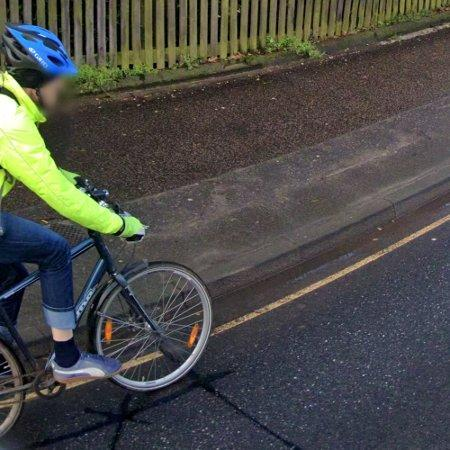bicycles: (71, 231, 212, 392), (1, 305, 64, 437)
